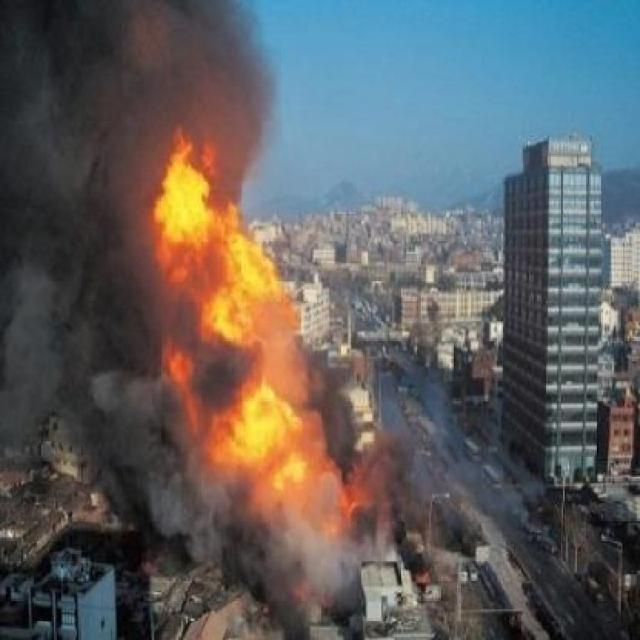Fire: (137, 115, 385, 552)
Smoke: (0, 3, 175, 569), (135, 337, 380, 634), (378, 429, 560, 589), (156, 0, 289, 195)
